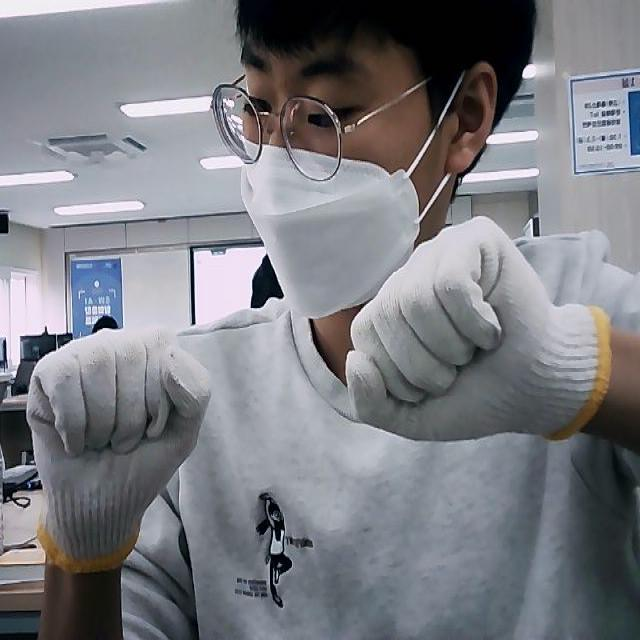gloves: (344, 212, 614, 444), (22, 328, 212, 570)
